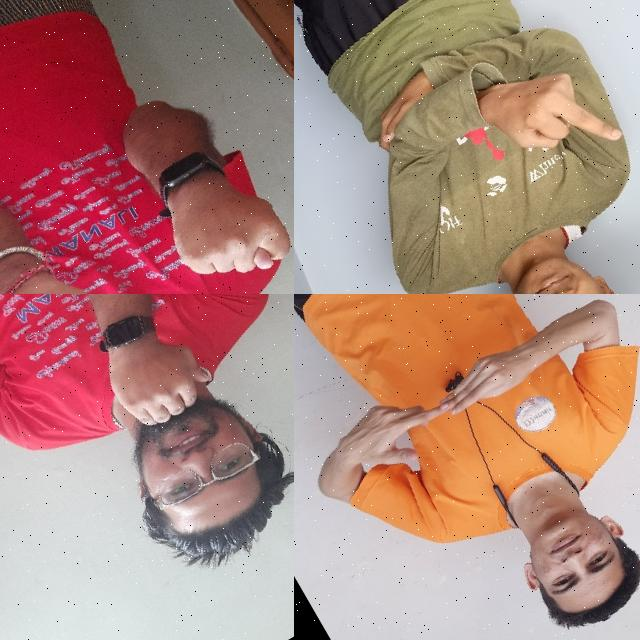Chin Flick: (47, 294, 294, 597)
Dulya: (134, 130, 294, 294), (0, 234, 140, 294)
Five Fathers: (325, 310, 567, 499)
Middle Finger: (475, 36, 640, 196)
